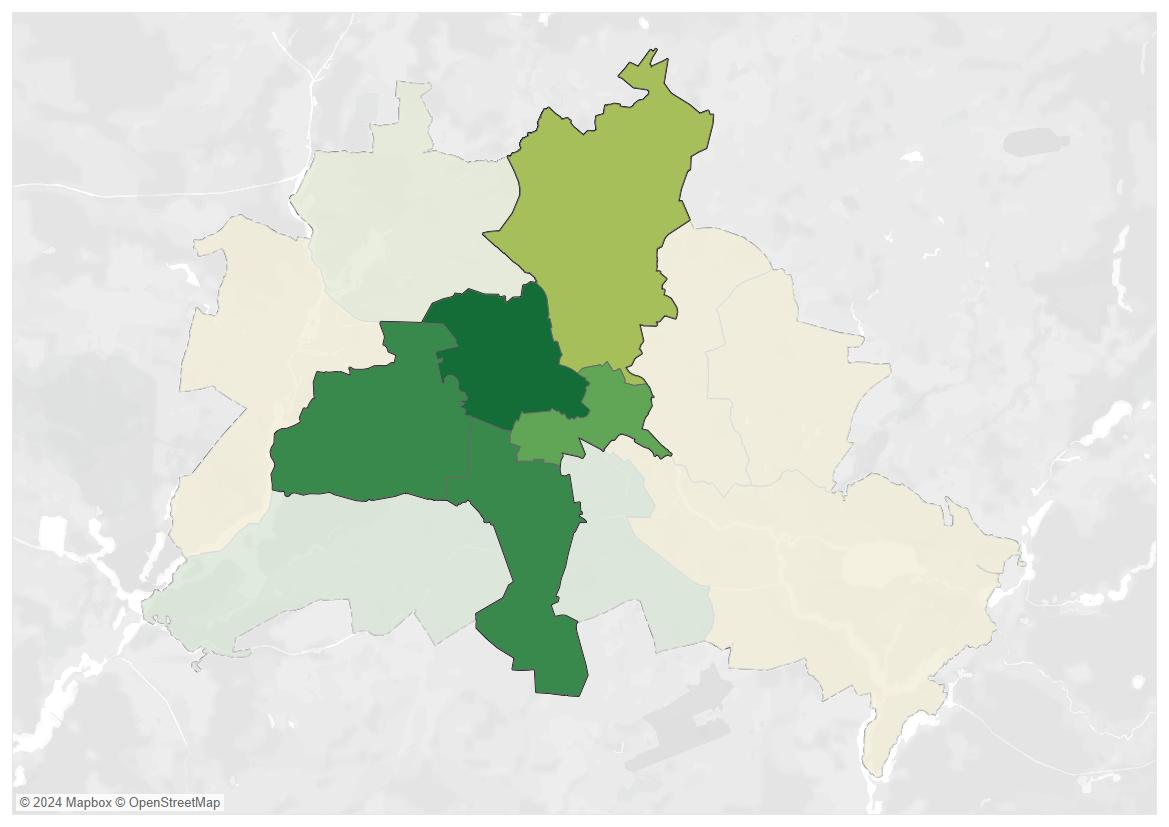

What the dashboard file says about the page in this screenshot:
{"tool":"tableau","page":{"name":"DA5","canvas":[1169,827],"ordinal":5},"visuals":[{"type":"worksheet","title":"Restaurants per km^2","mark":"Automatic","rows":["Gemeinde_n"],"cols":["Calculation_2923680605737775104"],"box":[8,8,1153,811]}]}

Visuals, with their boxes in screenshot pixels (x1, y1, x2, y2), scaled from the page's 1169x827 canvas onto the 1169x827 screenshot:
"Restaurants per km^2" worksheet: [8, 8, 1161, 819]
